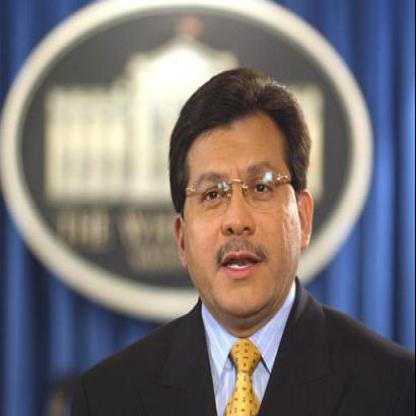face: (181, 86, 300, 325)
